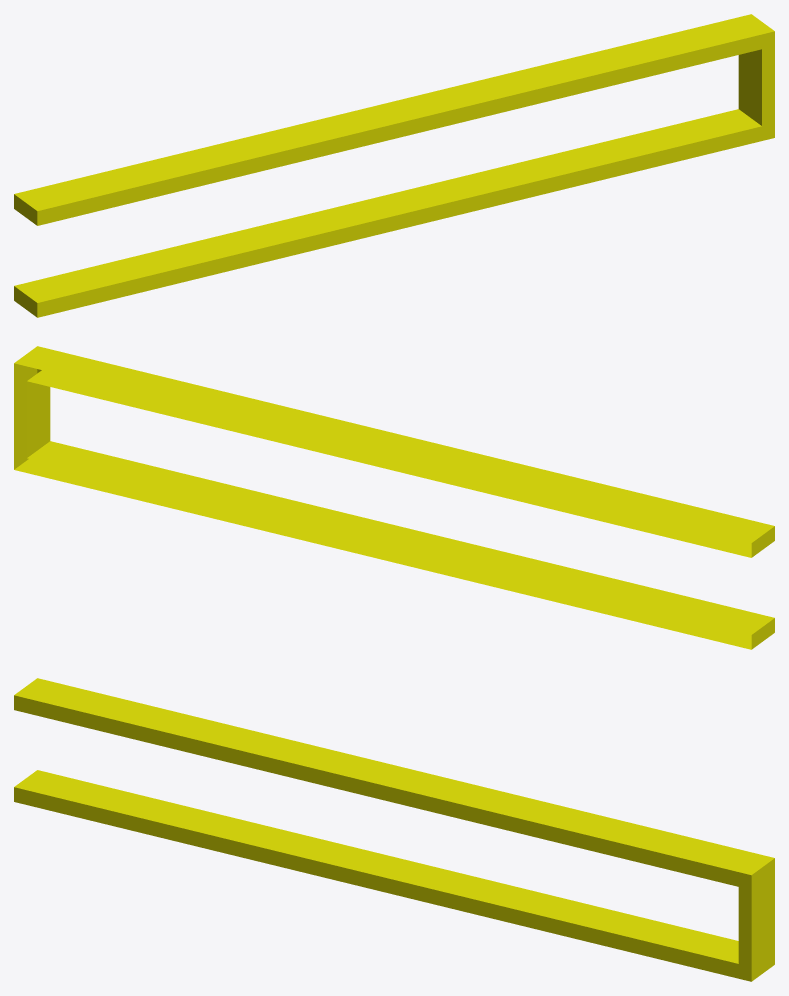
The model's file is SOPORTE.fbx.
3 renders of one model, top to bottom at view 1: azimuth 30°, elevation 25°; view 2: azimuth 150°, elevation 25°; view 3: azimuth 330°, elevation 25°, orthographic.
Parts seen in each view (by area): view 1: SOPORTE; view 2: SOPORTE; view 3: SOPORTE.
Part boxes in pixels (x1,y1,x2,y2): SOPORTE: (14, 14, 774, 317); SOPORTE: (14, 346, 774, 649); SOPORTE: (14, 678, 774, 981).
Bounding box in the file's own units: 6 × 0.8289 × 0.3308.
